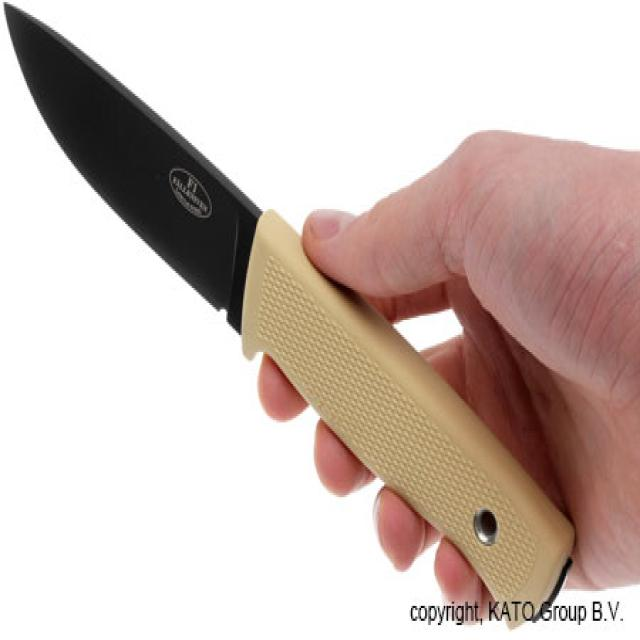knife: (1, 1, 582, 635)
